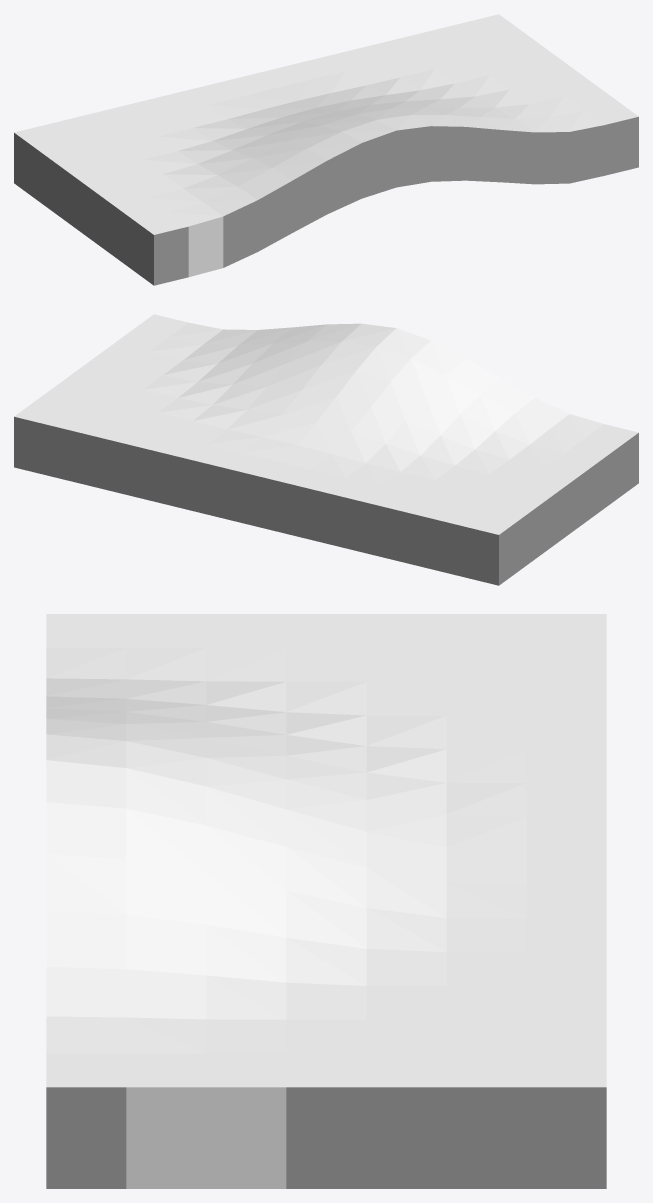
Rendered from RectLiftedEdge_80x40x8.fbx.
3 views of the same model, one above another, from view 1: azimuth 30°, elevation 25°; view 2: azimuth 150°, elevation 25°; view 3: azimuth 270°, elevation 25° (orthographic). The views are drawn at different scales.
Parts seen in each view (by area): view 1: RectLiftedEdge_80x40x8; view 2: RectLiftedEdge_80x40x8; view 3: RectLiftedEdge_80x40x8.
Boxes of the visible parts, bbox=[...] form: RectLiftedEdge_80x40x8: bbox=[14, 14, 638, 285]; RectLiftedEdge_80x40x8: bbox=[14, 314, 638, 585]; RectLiftedEdge_80x40x8: bbox=[46, 614, 606, 1188].
Size of the model in its own units: 80 by 15.14 by 40.
